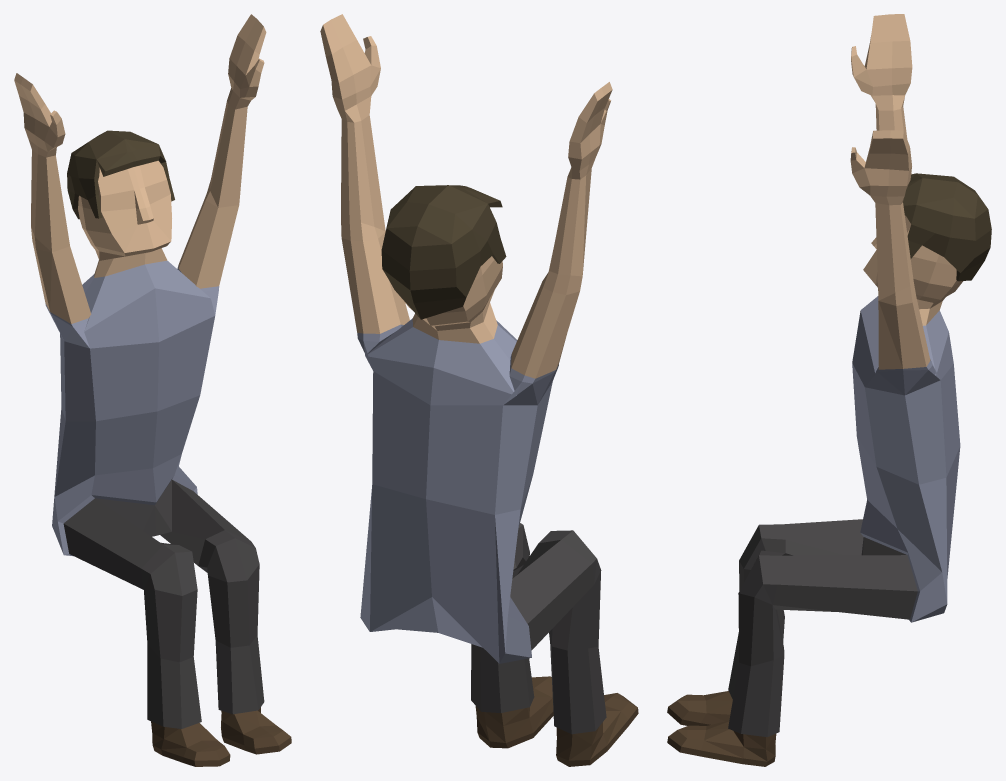
Rendered from Male_Crowd_SittingArmsUp.glb.
3 renders of one model, left to right at view 1: azimuth 30°, elevation 25°; view 2: azimuth 150°, elevation 25°; view 3: azimuth 270°, elevation 25°, orthographic. The views are drawn at different scales.
Visible parts, largest first — view 1: Male_Crowd_SittingArmsUp; view 2: Male_Crowd_SittingArmsUp; view 3: Male_Crowd_SittingArmsUp.
Boxes of the visible parts, x1=… form: Male_Crowd_SittingArmsUp: x1=14, y1=14, x2=291, y2=766; Male_Crowd_SittingArmsUp: x1=320, y1=14, x2=638, y2=766; Male_Crowd_SittingArmsUp: x1=667, y1=14, x2=991, y2=766.
Bounding box in the file's own units: 0.6899 × 1.79 × 0.7819.
